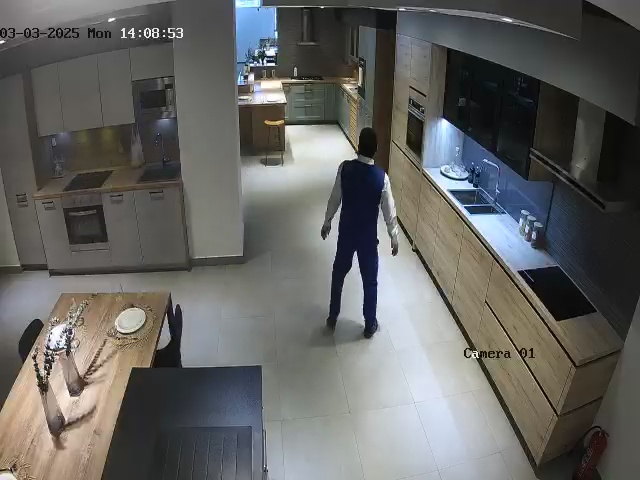employee: (320, 126, 400, 339)
